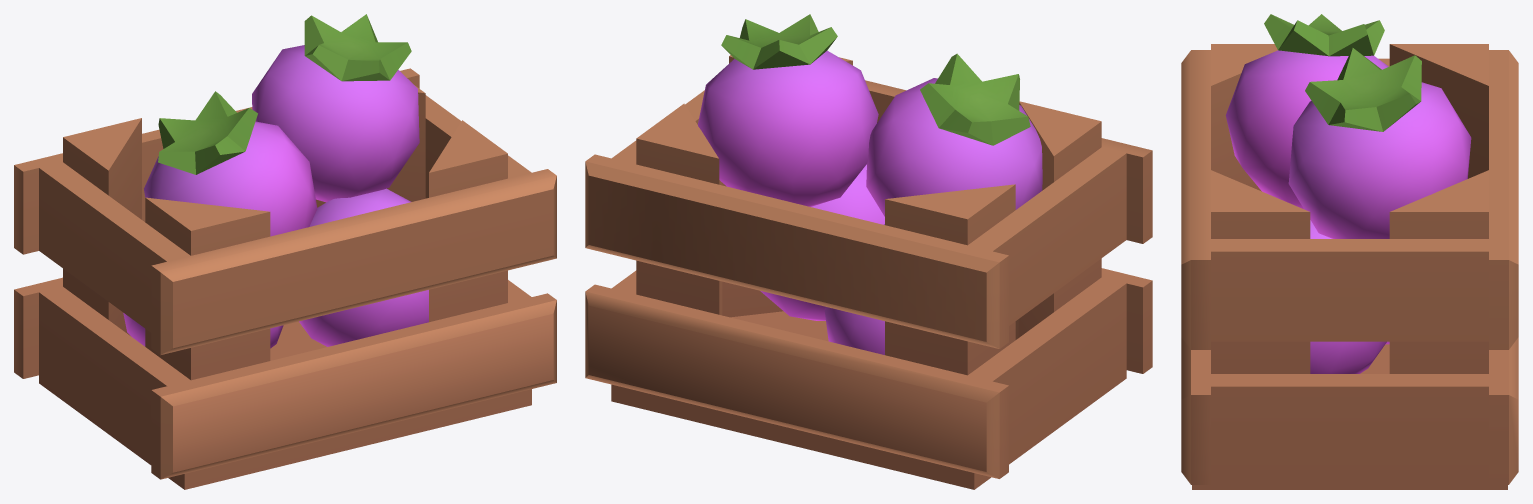
File: crate_berries.glb
3 views of the same model, side by side, from view 1: azimuth 30°, elevation 25°; view 2: azimuth 150°, elevation 25°; view 3: azimuth 270°, elevation 25° (orthographic). The views are drawn at different scales.
Visible parts, largest first — view 1: Food_Crate_Small_Berries; view 2: Food_Crate_Small_Berries; view 3: Food_Crate_Small_Berries.
Part boxes in pixels (<box>): Food_Crate_Small_Berries: <box>14,14,556,489</box>; Food_Crate_Small_Berries: <box>585,14,1152,489</box>; Food_Crate_Small_Berries: <box>1181,14,1518,489</box>.
Bounding box in the file's own units: 0.5546 × 0.4591 × 0.3771.
Materials: 1 (1 with a texture image).
